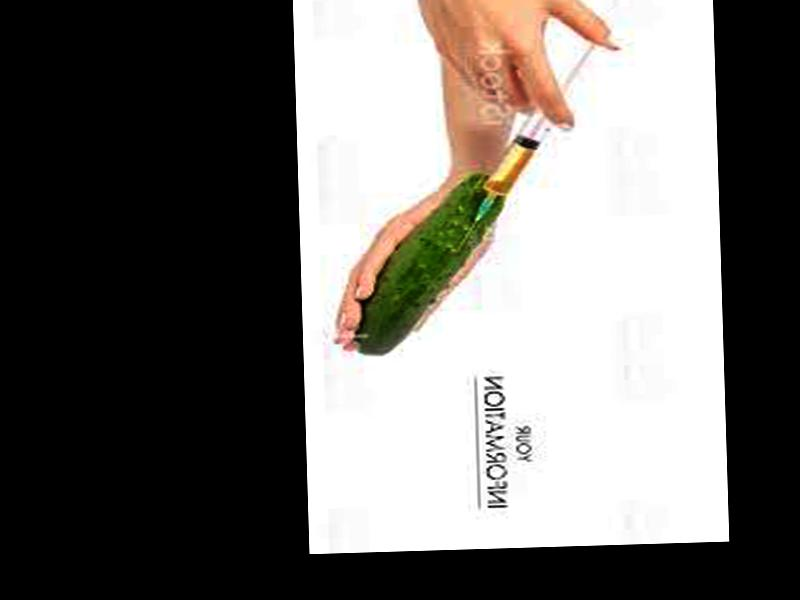Cucumber: (352, 174, 513, 354)
